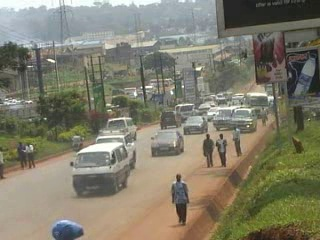Car: (92, 129, 137, 171), (149, 127, 184, 157), (182, 114, 210, 137), (157, 108, 182, 128), (205, 107, 224, 121), (197, 101, 211, 115), (205, 99, 217, 107)
Motorcycle: (72, 136, 86, 155)
